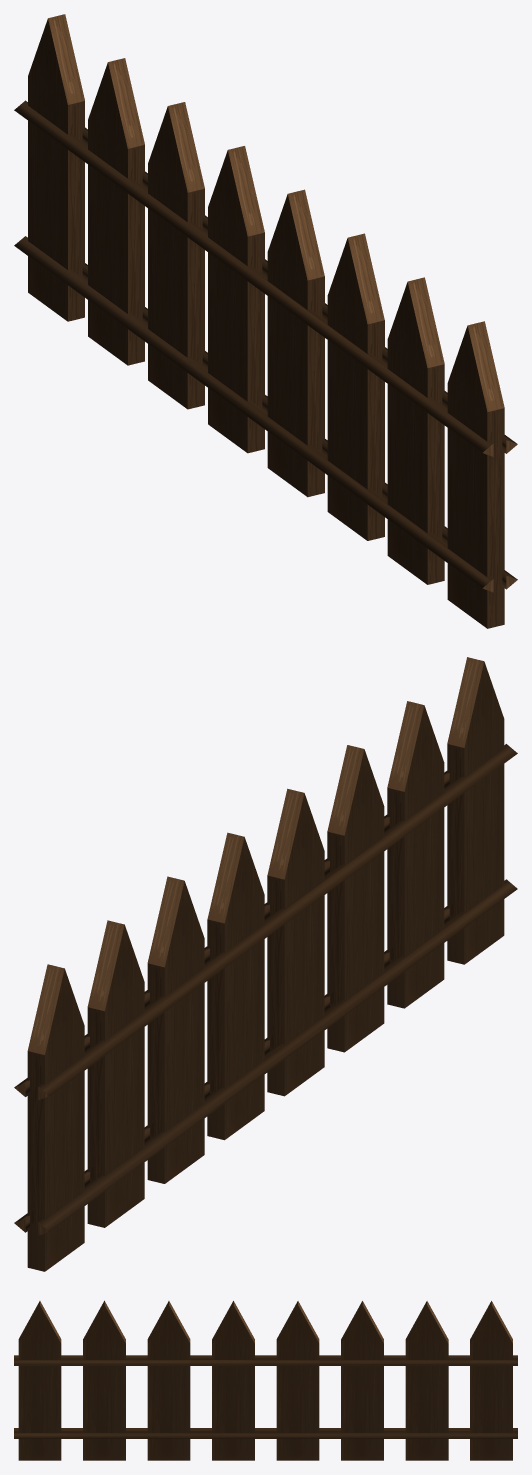
The model's file is plotek.FBX.
The picture shows the model from 3 angles, top to bottom: view 1: azimuth 30°, elevation 25°; view 2: azimuth 150°, elevation 25°; view 3: azimuth 270°, elevation 25°; orthographic projection. The views are drawn at different scales.
Parts seen in each view (by area): view 1: Box007; view 2: Box007; view 3: Box007.
Boxes of the visible parts, x1=… form: Box007: x1=14, y1=14, x2=517, y2=628; Box007: x1=14, y1=657, x2=517, y2=1271; Box007: x1=14, y1=1300, x2=517, y2=1460.
Size of the model in its own units: 0.3535 by 2.73 by 8.02.
1 material, 1 textured.
